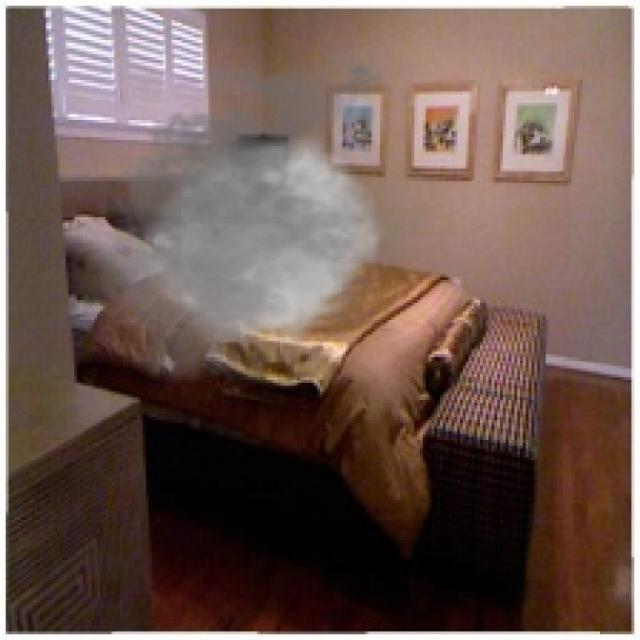smoke: (71, 43, 448, 394)
